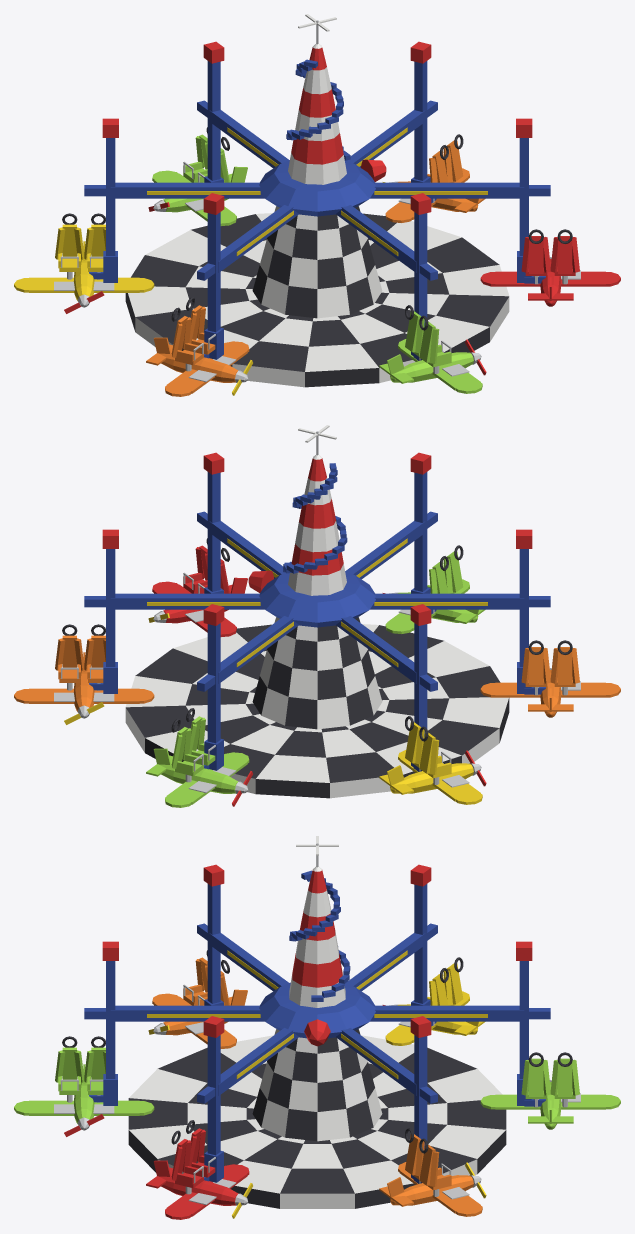
The model's file is air_race.glb.
3 renders of one model, top to bottom at view 1: azimuth 30°, elevation 25°; view 2: azimuth 150°, elevation 25°; view 3: azimuth 270°, elevation 25°, orthographic.
Parts seen in each view (by area): view 1: base, rotor, lift2, lift3, lift5, lift4, lift1, lift0; view 2: base, rotor, lift0, lift1, lift3, lift2, lift5, lift4; view 3: base, rotor, lift4, lift5, lift1, lift0, lift3, lift2.
Part boxes in pixels (bbox=[...]): base: bbox=[125, 206, 509, 387]; rotor: bbox=[84, 14, 550, 332]; lift2: bbox=[14, 213, 154, 313]; lift3: bbox=[146, 297, 252, 396]; lift5: bbox=[480, 229, 620, 306]; lift4: bbox=[379, 305, 486, 393]; lift1: bbox=[148, 127, 247, 225]; lift0: bbox=[382, 134, 485, 222]; base: bbox=[125, 617, 509, 798]; rotor: bbox=[84, 425, 550, 743]; lift0: bbox=[14, 624, 154, 724]; lift1: bbox=[146, 708, 252, 807]; lift3: bbox=[480, 640, 620, 717]; lift2: bbox=[379, 716, 486, 804]; lift5: bbox=[148, 538, 247, 636]; lift4: bbox=[382, 545, 485, 633]; base: bbox=[128, 1029, 506, 1208]; rotor: bbox=[84, 836, 550, 1155]; lift4: bbox=[14, 1036, 154, 1136]; lift5: bbox=[146, 1120, 252, 1219]; lift1: bbox=[480, 1052, 620, 1129]; lift0: bbox=[379, 1128, 486, 1216]; lift3: bbox=[148, 950, 247, 1048]; lift2: bbox=[382, 957, 485, 1045].
Bounding box in the file's own units: 11.16 × 6.55 × 12.62.
